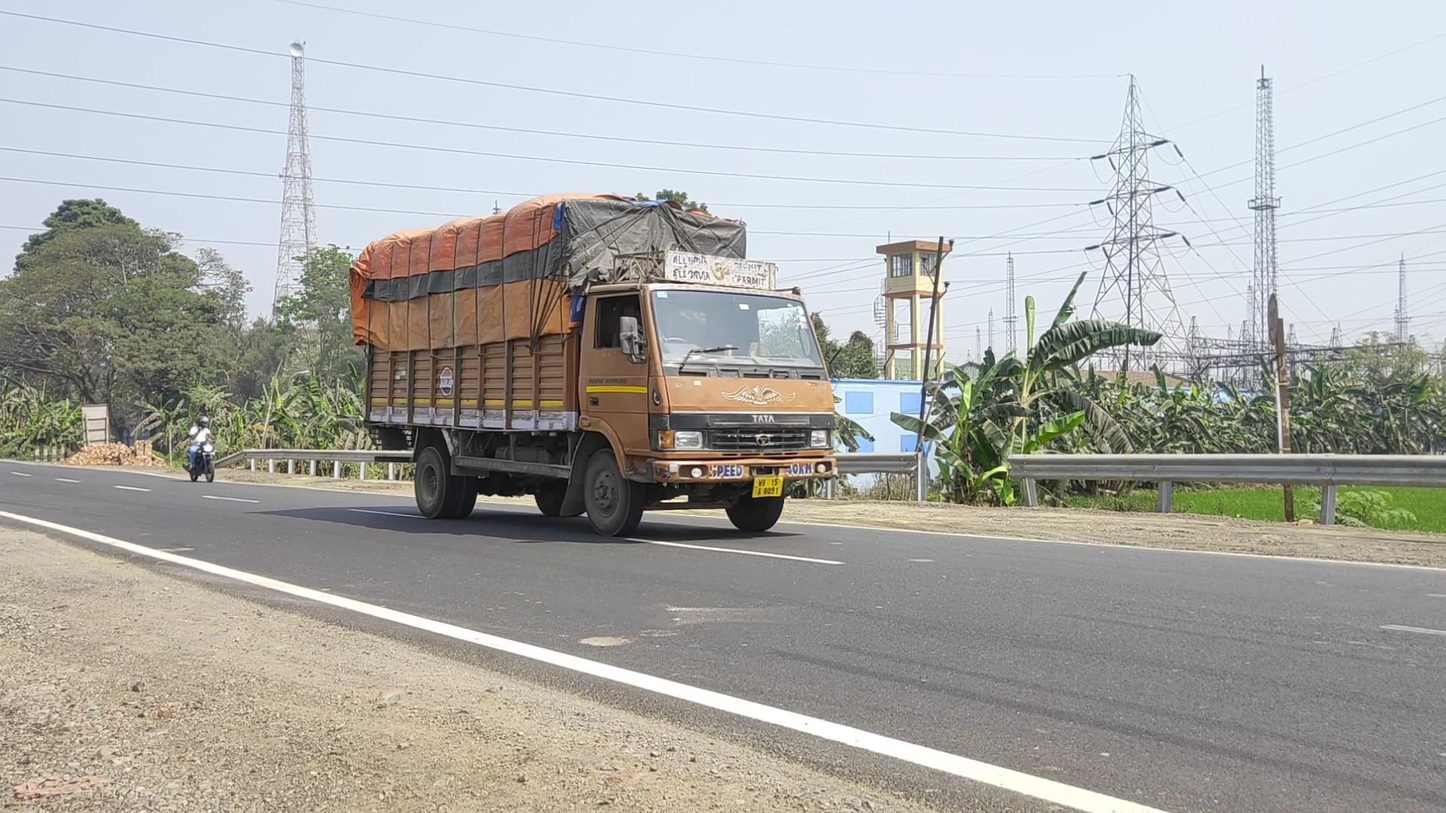bike: (183, 416, 219, 483)
truck: (354, 194, 839, 538)
